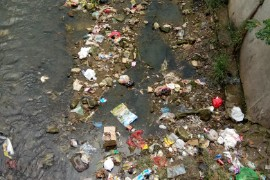trash: (62, 1, 265, 178)
